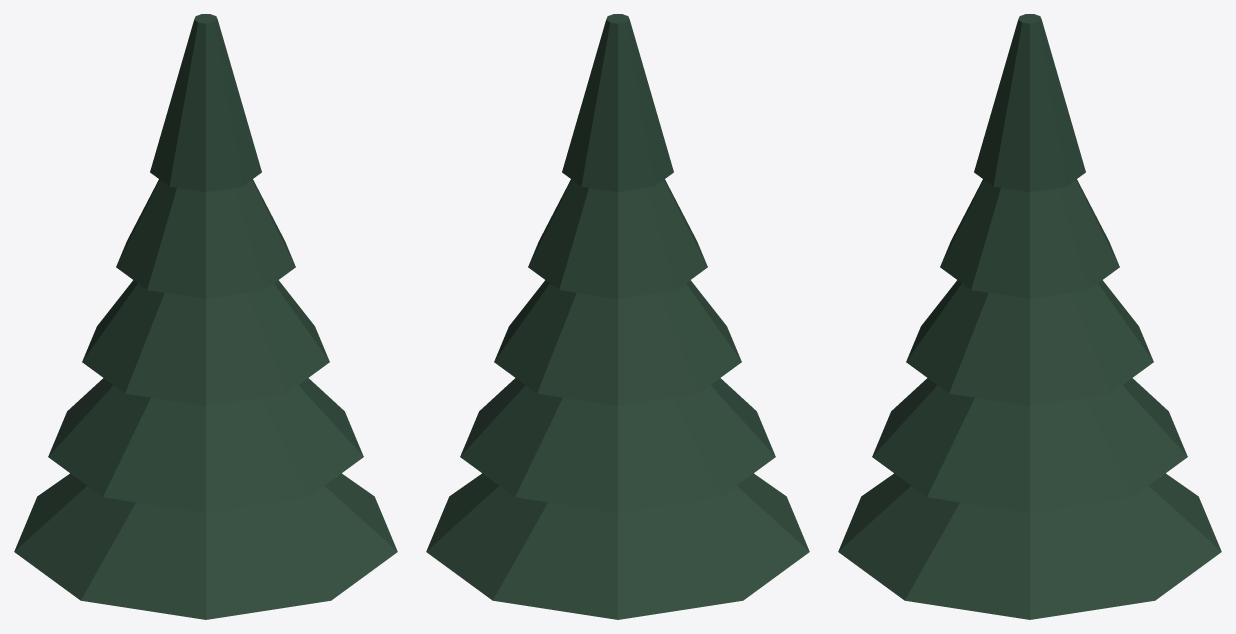
File: tree_pine_s_crown.fbx
3 views of the same model, side by side, from view 1: azimuth 30°, elevation 25°; view 2: azimuth 150°, elevation 25°; view 3: azimuth 270°, elevation 25° (orthographic).
Visible parts, largest first — view 1: tree_pine_s_crown; view 2: tree_pine_s_crown; view 3: tree_pine_s_crown.
Boxes of the visible parts, x1,y1,x2,y2 form: tree_pine_s_crown: (14,14,397,619); tree_pine_s_crown: (426,14,809,619); tree_pine_s_crown: (838,14,1221,619).
Bounding box in the file's own units: 756 × 1146 × 768.
